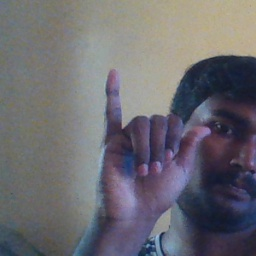J: (93, 70, 214, 218)
